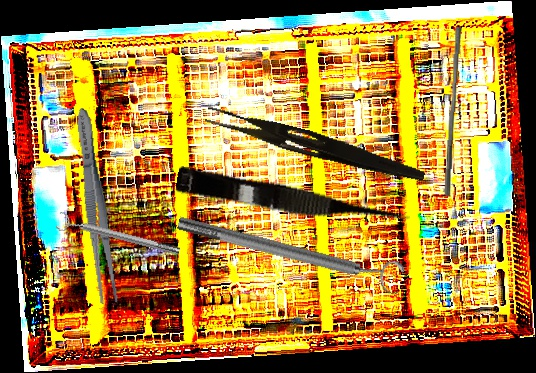Dressing Forceps: (202, 105, 429, 185), (70, 106, 122, 307)
Fixation Ring: (174, 202, 406, 300), (55, 210, 182, 262)
Micro Scissor: (174, 165, 412, 239)
Pusher: (443, 26, 463, 197)
